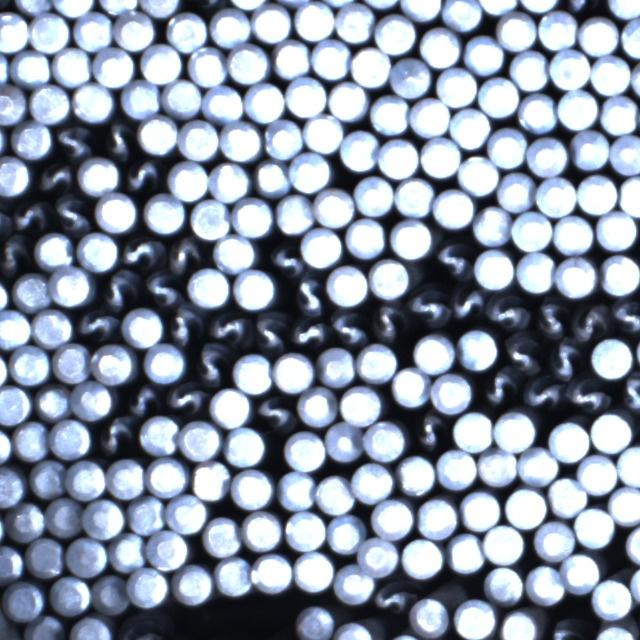tool: (93, 342, 140, 384), (452, 598, 496, 640), (417, 496, 459, 539), (431, 370, 474, 412), (401, 536, 444, 578), (325, 264, 368, 306), (142, 192, 185, 234), (232, 267, 276, 308), (50, 266, 94, 307), (146, 457, 190, 498), (351, 462, 395, 503), (505, 486, 547, 528), (589, 412, 631, 454), (81, 498, 124, 539), (120, 305, 163, 346), (370, 498, 413, 539), (339, 385, 382, 426), (3, 579, 46, 620), (368, 257, 411, 298), (140, 43, 183, 84), (71, 82, 114, 123), (363, 420, 406, 461), (230, 468, 273, 509), (494, 409, 537, 450), (389, 56, 432, 97), (460, 489, 501, 531), (50, 418, 92, 459), (244, 81, 286, 122), (463, 32, 504, 74), (420, 25, 462, 66), (292, 549, 334, 590), (230, 195, 272, 236), (180, 420, 222, 461), (456, 328, 497, 370), (208, 160, 249, 202), (574, 506, 616, 547), (95, 191, 137, 232), (590, 336, 631, 378), (252, 550, 293, 592), (555, 256, 597, 297), (228, 42, 271, 82), (299, 226, 342, 266), (187, 266, 230, 306), (412, 332, 455, 372), (483, 522, 526, 562), (70, 379, 113, 419), (340, 129, 380, 172), (164, 494, 207, 534), (284, 430, 327, 470), (288, 152, 331, 192), (77, 155, 120, 195), (392, 217, 435, 257), (224, 427, 267, 467), (548, 421, 589, 462), (477, 76, 518, 117), (210, 387, 251, 428), (379, 138, 420, 179), (435, 447, 476, 488), (272, 352, 313, 393), (395, 174, 436, 215), (375, 12, 416, 53), (576, 174, 617, 215), (335, 562, 376, 603), (312, 39, 353, 80), (535, 174, 576, 215), (138, 413, 179, 454), (113, 10, 155, 50), (432, 187, 474, 227), (286, 76, 328, 116), (370, 92, 410, 134), (472, 250, 514, 290), (576, 15, 618, 55), (25, 537, 65, 579), (314, 187, 356, 227), (231, 352, 271, 394), (30, 306, 72, 346), (66, 537, 108, 577), (344, 218, 386, 258), (146, 530, 188, 570), (284, 510, 326, 550), (144, 342, 186, 382), (572, 128, 612, 170), (558, 88, 600, 128), (356, 340, 398, 380), (220, 120, 262, 160), (170, 564, 212, 604), (534, 518, 576, 558), (449, 108, 490, 148), (453, 409, 493, 450), (458, 154, 499, 194), (202, 515, 242, 556), (353, 173, 393, 214), (514, 251, 554, 292), (409, 96, 450, 136), (436, 68, 477, 108), (137, 114, 178, 154), (77, 232, 118, 272), (28, 83, 69, 123), (73, 11, 114, 51), (262, 118, 303, 158), (496, 11, 537, 51), (166, 160, 207, 200), (314, 474, 354, 515), (49, 575, 90, 615), (178, 119, 218, 160), (274, 193, 314, 234), (67, 459, 107, 500), (330, 80, 370, 121), (397, 453, 437, 494), (166, 10, 207, 50), (126, 566, 167, 606), (10, 344, 51, 384), (550, 48, 590, 89), (352, 46, 392, 87), (524, 564, 564, 605), (553, 214, 594, 254), (591, 54, 632, 94), (335, 1, 375, 42), (526, 136, 566, 177), (512, 210, 554, 249), (11, 120, 53, 159), (601, 254, 640, 296), (317, 344, 356, 386), (210, 8, 252, 47), (91, 48, 133, 87), (472, 206, 512, 246), (30, 13, 70, 53), (188, 46, 228, 86), (189, 198, 229, 238), (547, 476, 587, 516), (52, 342, 92, 382), (596, 210, 636, 250), (304, 114, 344, 154), (242, 510, 282, 550), (409, 596, 449, 636), (487, 126, 527, 166), (298, 385, 338, 425), (577, 452, 617, 492), (422, 138, 462, 178), (590, 578, 630, 618), (120, 79, 160, 119), (600, 94, 640, 134), (294, 0, 335, 39), (509, 49, 548, 90), (214, 234, 256, 272), (447, 532, 485, 574), (516, 446, 558, 484), (162, 79, 202, 118), (539, 10, 578, 50), (52, 47, 92, 86), (126, 496, 166, 535), (392, 367, 431, 407), (252, 4, 292, 43), (192, 460, 231, 500), (483, 566, 523, 605), (359, 535, 399, 574), (6, 502, 45, 542), (276, 470, 315, 510), (203, 84, 244, 122), (106, 458, 144, 499), (215, 554, 253, 595), (326, 422, 364, 463), (564, 551, 602, 592), (91, 574, 129, 615), (328, 513, 367, 552), (498, 172, 536, 212), (108, 532, 146, 572), (272, 40, 310, 80), (518, 91, 556, 131), (33, 230, 73, 268), (476, 448, 516, 486), (13, 271, 51, 310), (12, 49, 52, 86), (46, 498, 83, 538), (29, 458, 66, 498), (14, 421, 50, 462), (295, 604, 335, 640), (501, 607, 542, 640), (35, 384, 72, 420), (256, 159, 290, 197), (0, 383, 31, 423), (442, 0, 483, 30), (610, 132, 640, 173), (608, 485, 640, 523), (0, 308, 30, 348), (0, 155, 30, 195), (68, 614, 113, 640), (0, 10, 27, 52), (23, 614, 65, 640), (0, 83, 26, 124), (0, 465, 24, 507), (617, 444, 640, 485), (0, 544, 24, 583), (619, 175, 640, 216), (400, 0, 441, 20), (333, 621, 375, 640), (621, 16, 640, 57), (592, 624, 636, 640), (0, 608, 22, 640), (624, 521, 640, 562), (52, 0, 95, 15), (138, 0, 180, 15), (606, 0, 640, 17), (14, 0, 53, 14), (479, 0, 518, 14), (97, 0, 137, 13), (520, 0, 562, 12), (0, 426, 12, 463), (630, 566, 640, 608), (226, 0, 270, 9), (631, 57, 640, 97), (0, 50, 9, 89), (359, 0, 402, 8), (0, 276, 9, 313), (0, 350, 7, 390), (317, 0, 360, 6)
tool_b: (189, 342, 231, 387), (406, 286, 449, 328), (432, 238, 473, 282), (501, 332, 542, 375), (485, 292, 529, 332), (97, 267, 139, 308), (94, 415, 136, 456), (548, 336, 587, 380), (564, 376, 609, 414), (51, 192, 93, 232), (206, 308, 250, 346), (288, 272, 326, 316), (118, 232, 163, 269), (570, 298, 610, 339), (163, 234, 205, 273), (116, 612, 174, 640), (141, 268, 181, 308), (163, 379, 206, 416), (76, 305, 120, 341), (479, 367, 519, 406), (410, 410, 448, 451), (166, 304, 204, 344), (252, 311, 289, 352), (254, 394, 295, 431), (52, 122, 94, 158), (534, 296, 570, 338), (520, 373, 562, 409), (331, 307, 369, 346), (122, 156, 162, 193), (372, 301, 408, 342), (10, 197, 49, 234), (33, 159, 74, 194), (450, 284, 486, 322), (289, 316, 329, 350), (102, 120, 136, 158), (372, 580, 410, 614), (124, 381, 160, 416), (0, 232, 30, 274), (266, 244, 303, 278), (610, 296, 640, 335), (544, 614, 589, 640), (618, 370, 640, 412), (562, 0, 602, 12)
